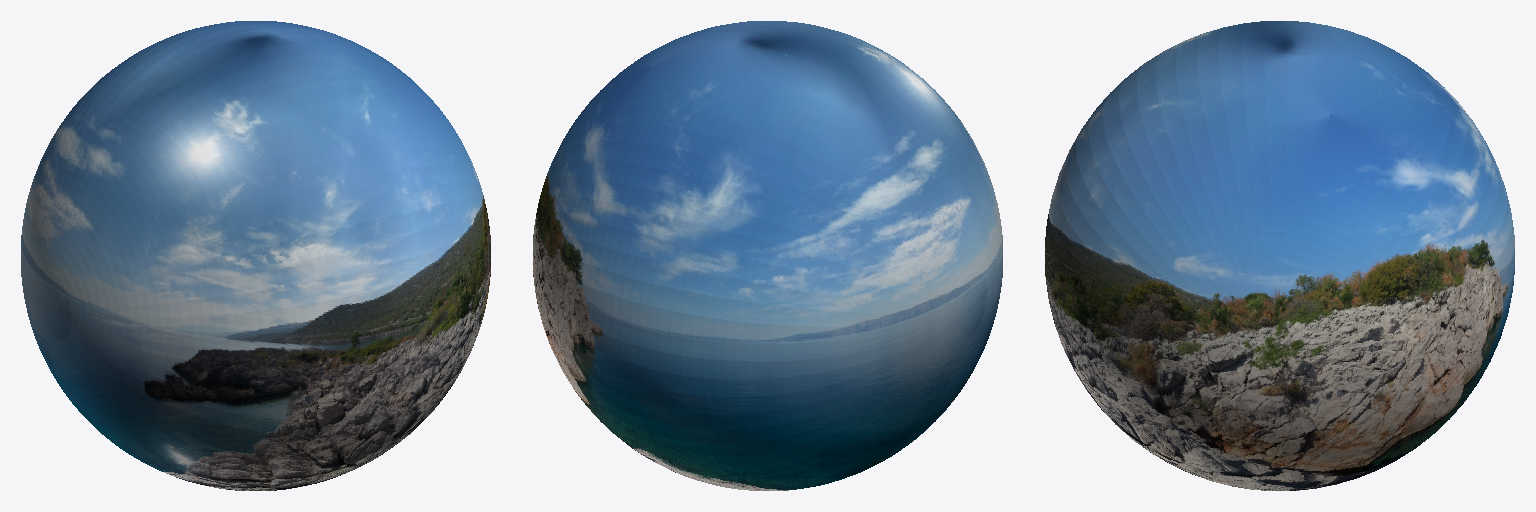
3 views of the same model, side by side, from view 1: azimuth 30°, elevation 25°; view 2: azimuth 150°, elevation 25°; view 3: azimuth 270°, elevation 25° (orthographic).
Visible parts, largest first — view 1: sphere; view 2: sphere; view 3: sphere.
Part boxes in pixels (bbox=[...]): sphere: bbox=[21, 21, 490, 490]; sphere: bbox=[533, 21, 1002, 490]; sphere: bbox=[1045, 21, 1514, 490].
Bounding box in the file's own units: 2 × 2 × 2.
1 materials, 1 textured.